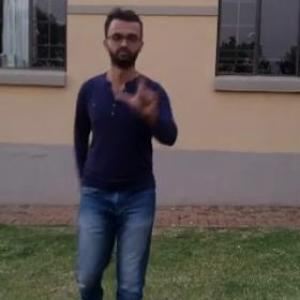land_hand: (115, 62, 162, 120)
